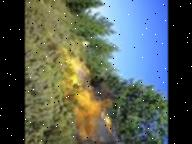fire: (61, 50, 118, 140)
